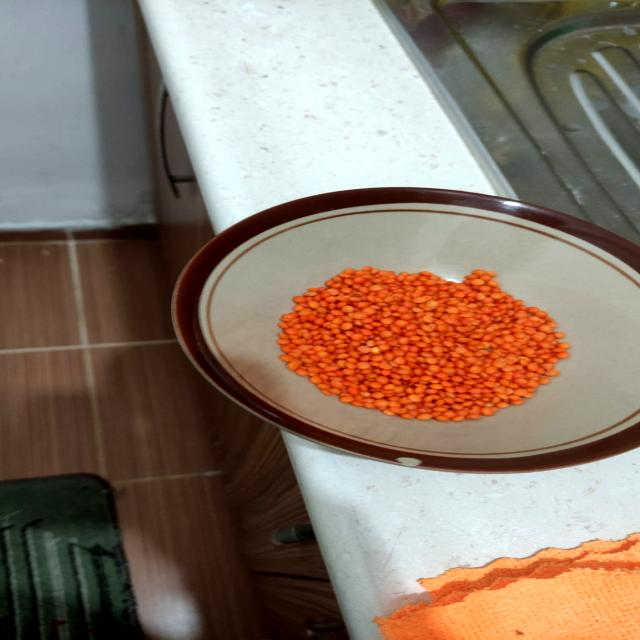red lentils: (262, 252, 608, 443)
